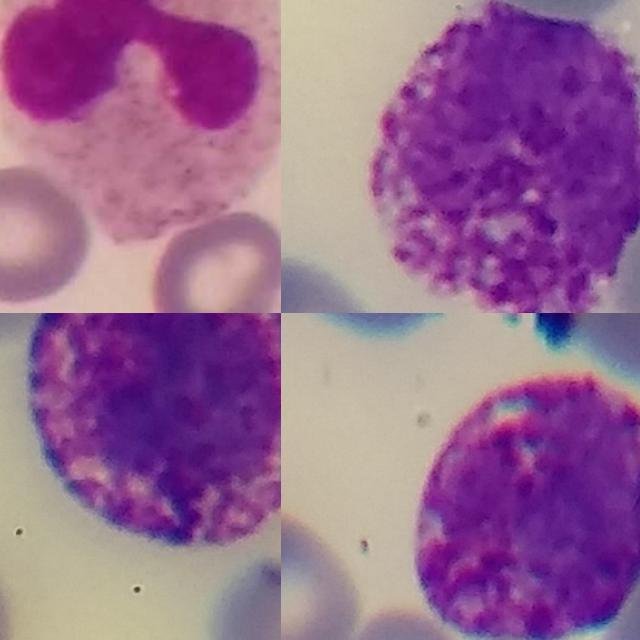Basophil: (366, 3, 640, 313), (24, 313, 281, 557), (416, 371, 640, 640)
Eosinophil: (0, 0, 281, 242)
